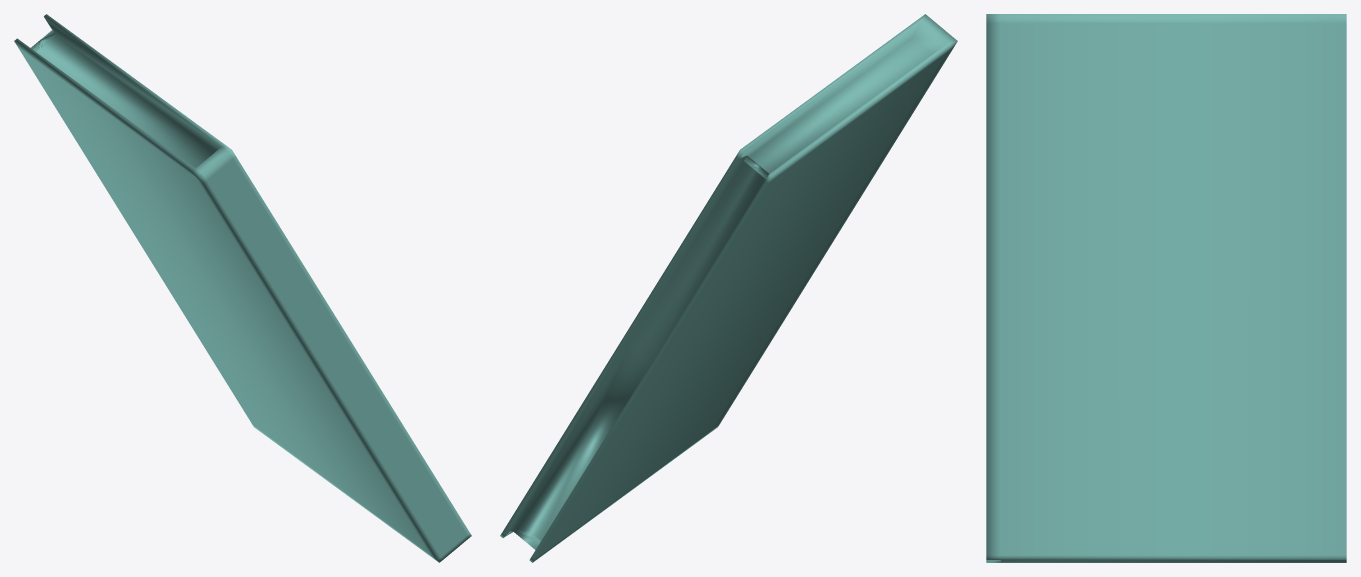
File: K-Book_3.fbx
The picture shows the model from 3 angles, left to right: view 1: azimuth 30°, elevation 25°; view 2: azimuth 150°, elevation 25°; view 3: azimuth 270°, elevation 25°; orthographic projection. The views are drawn at different scales.
Visible parts, largest first — view 1: Book.007; view 2: Book.007; view 3: Book.007.
Boxes of the visible parts, x1=… form: Book.007: x1=14, y1=14, x2=471, y2=562; Book.007: x1=500, y1=14, x2=957, y2=562; Book.007: x1=986, y1=14, x2=1346, y2=562.
Bounding box in the file's own units: 30.74 × 50.02 × 36.25.
